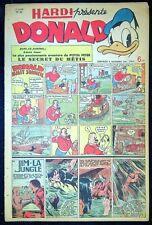paper: (5, 4, 149, 222)
